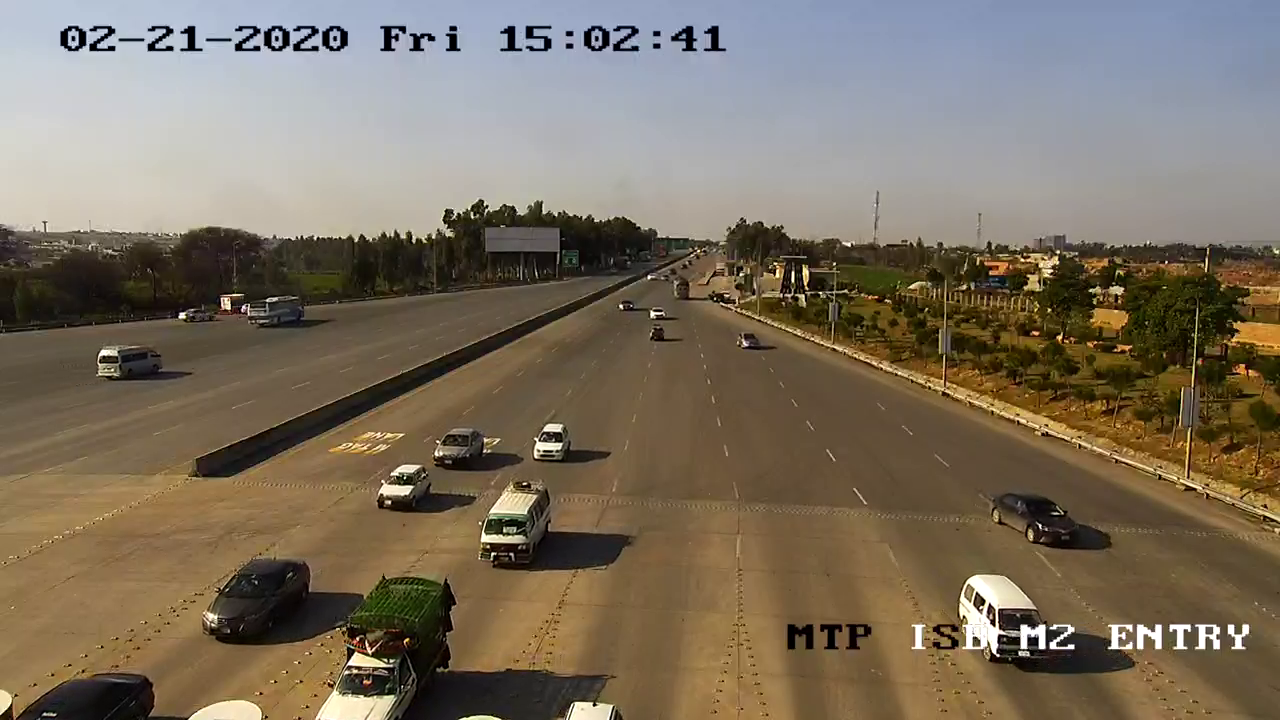f1: (199, 545, 314, 647), (983, 478, 1089, 554), (370, 457, 435, 515), (429, 415, 489, 477), (529, 415, 574, 468)
f2: (312, 574, 456, 720), (463, 472, 560, 575)
